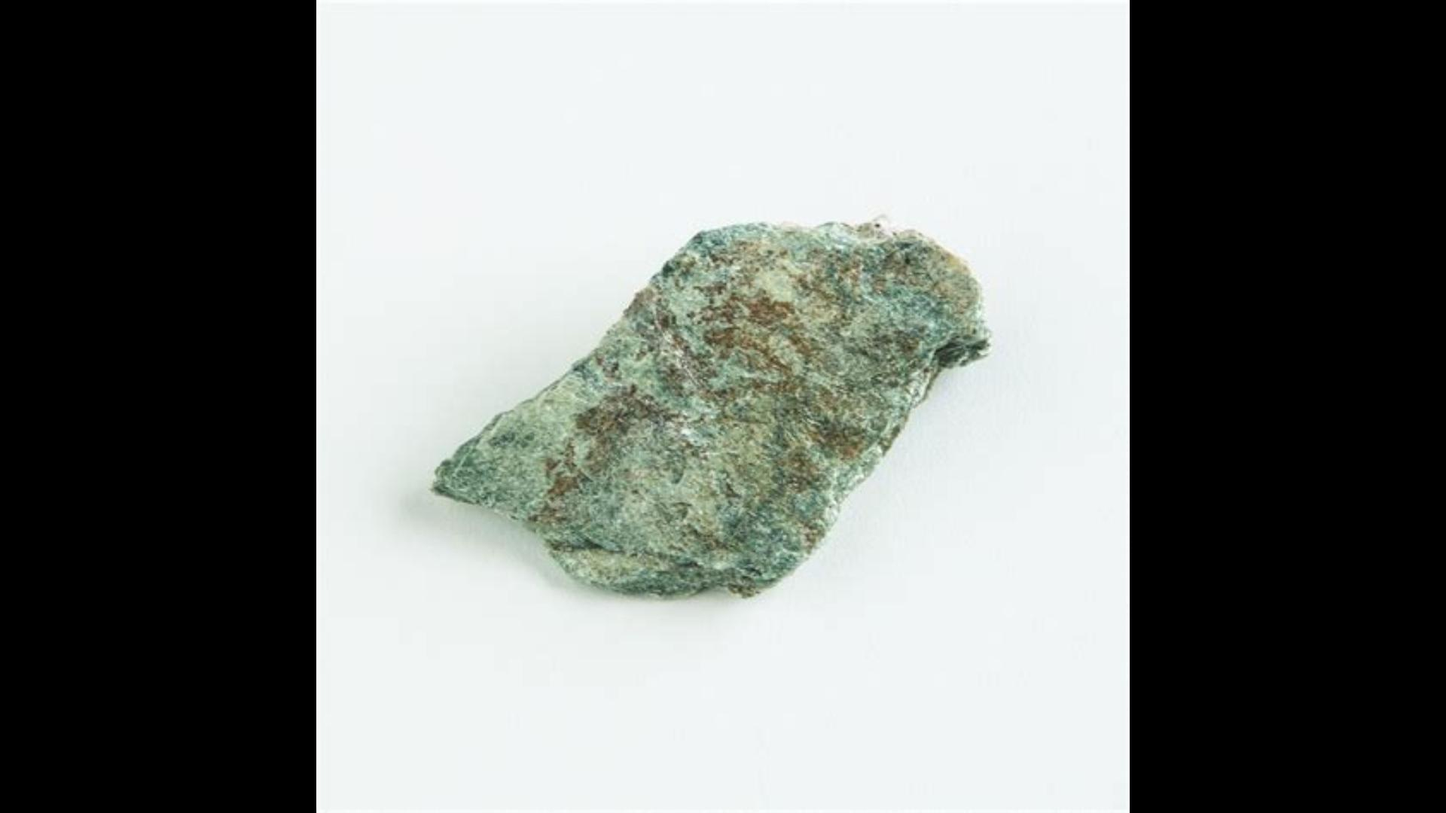rock: (433, 223, 984, 593)
